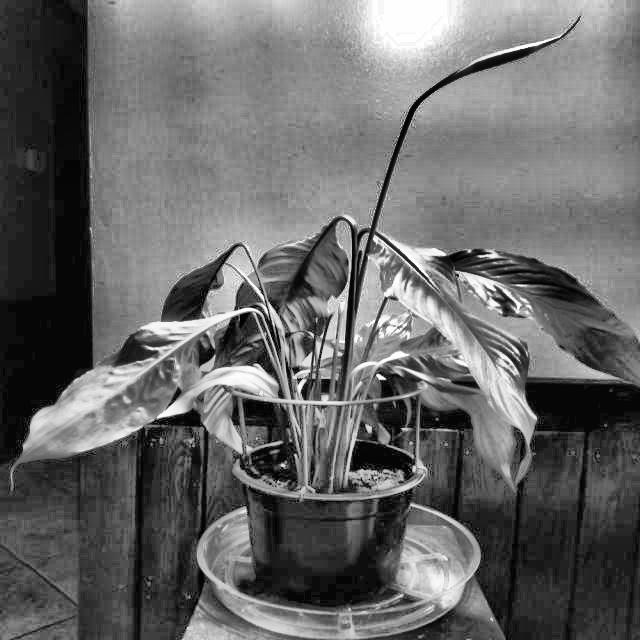plants: (1, 17, 640, 604), (329, 218, 551, 440)
